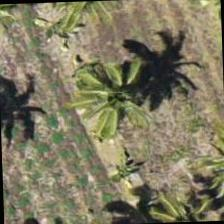Kelapa_Sawit: (69, 52, 162, 144), (135, 171, 223, 223)
